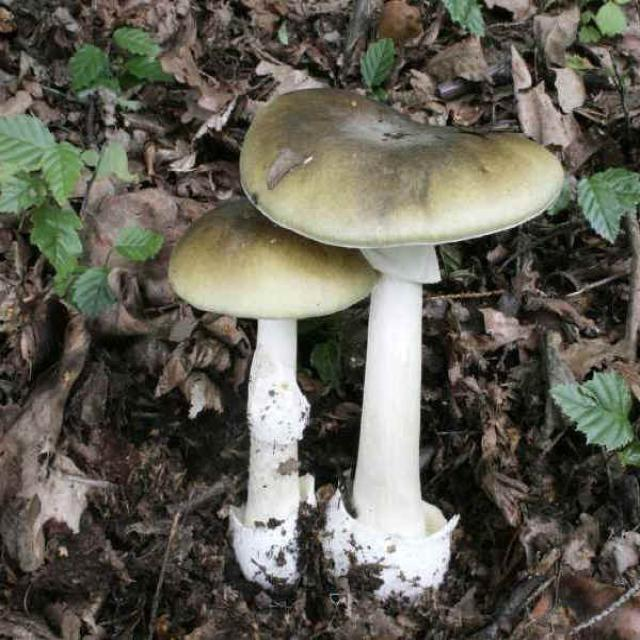death-cap: (239, 89, 565, 601), (167, 197, 385, 579)
